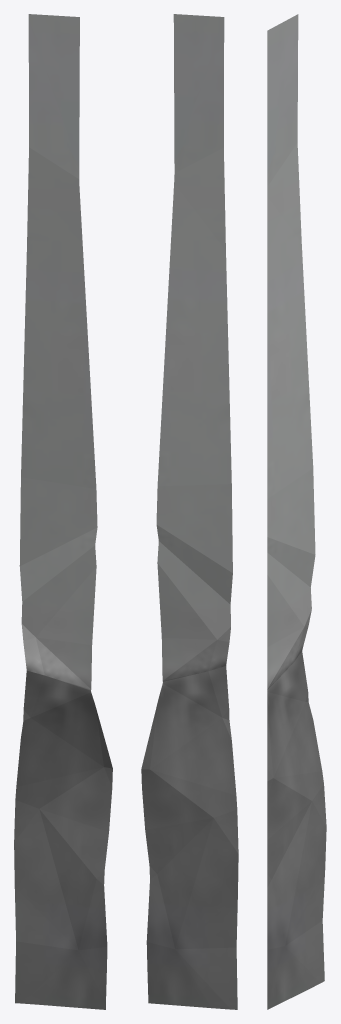
The picture shows the model from 3 angles, left to right: view 1: azimuth 30°, elevation 25°; view 2: azimuth 210°, elevation 25°; view 3: azimuth 270°, elevation 25°; orthographic projection. The views are drawn at different scales.
Size of the model in its own units: 0.0598 by 0.8374 by 0.0466.
1 material, 1 textured.
